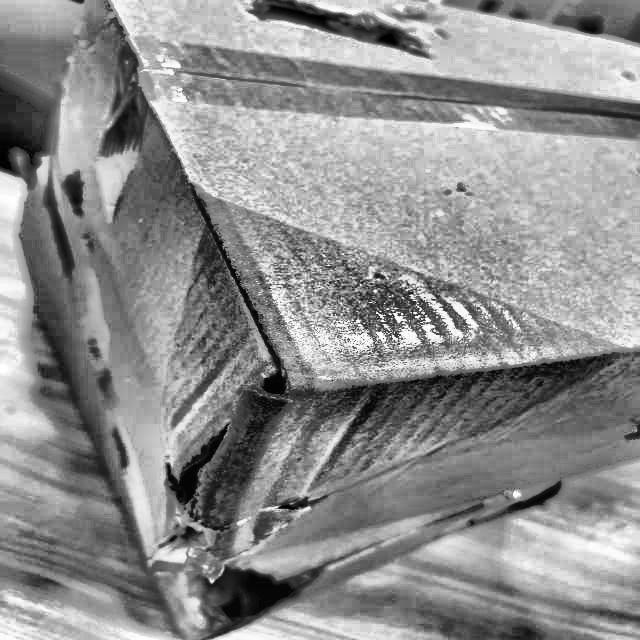box: (12, 0, 640, 623)
hole: (243, 0, 438, 76), (176, 544, 319, 636)
wet: (174, 200, 623, 474)
